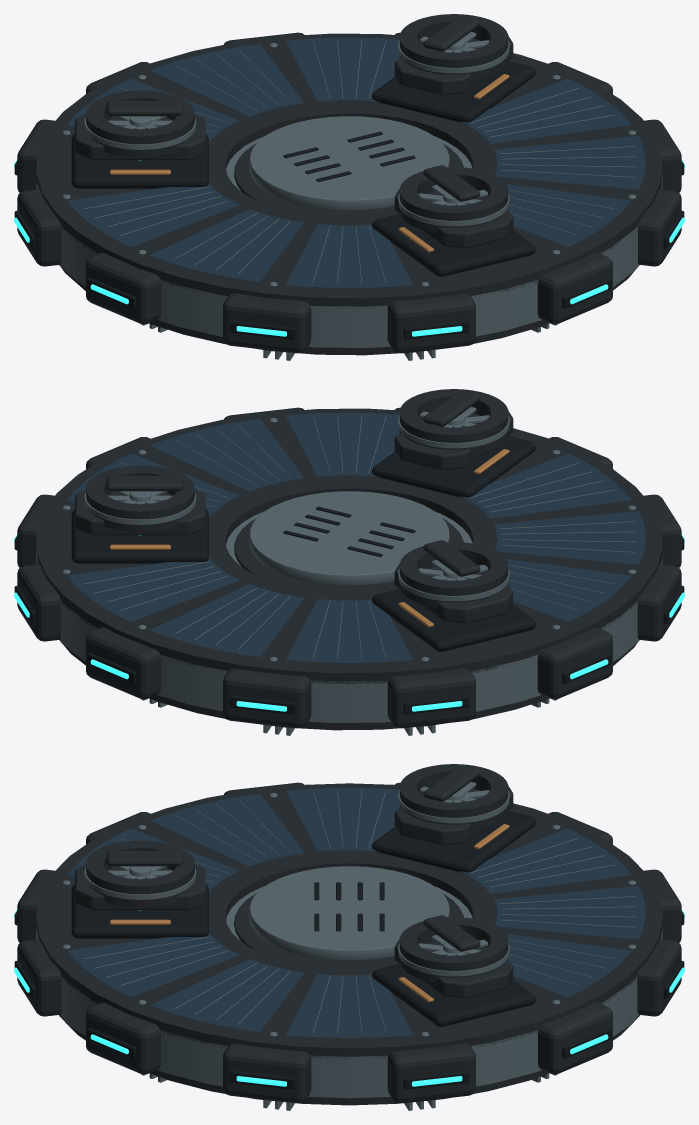
The model's file is solar_service_station.glb.
3 views of the same model, one above another, from view 1: azimuth 30°, elevation 25°; view 2: azimuth 150°, elevation 25°; view 3: azimuth 270°, elevation 25° (orthographic).
Parts seen in each view (by area): view 1: StationUpperSkin, StationServiceCap, SolarWafer.001, SolarWafer.002, StationStructuralDeck, SolarWafer, RelayBerth.001, RelayDuct.001, StationPerimeterCassette, SolarWafer.003, StationPerimeterCassette.001, SolarWafer.004 (+18 smaller); view 2: StationUpperSkin, StationServiceCap, SolarWafer.001, SolarWafer.003, SolarWafer, StationStructuralDeck, RelayBerth.001, RelayDuct.001, StationPerimeterCassette.005, SolarWafer.002, StationPerimeterCassette.004, SolarWafer.004 (+17 smaller); view 3: StationUpperSkin, StationServiceCap, SolarWafer.001, SolarWafer.002, StationStructuralDeck, SolarWafer.003, RelayBerth.001, RelayDuct.001, SolarWafer, SolarWafer.004, StationPerimeterCassette.002, RelayBerth (+16 smaller).
Part boxes in pixels (x1,y1,x2,y2): StationUpperSkin: (36, 33, 662, 308); StationServiceCap: (249, 116, 449, 210); SolarWafer.001: (150, 136, 645, 281); SolarWafer.002: (67, 78, 631, 246); StationStructuralDeck: (36, 136, 662, 347); SolarWafer: (286, 184, 631, 287); RelayBerth.001: (71, 61, 535, 188); RelayDuct.001: (86, 14, 508, 157); StationPerimeterCassette: (387, 252, 612, 353); SolarWafer.003: (67, 37, 399, 142); StationPerimeterCassette.001: (223, 189, 681, 353); SolarWafer.004: (150, 43, 304, 116); StationUpperSkin: (36, 408, 662, 683); StationServiceCap: (249, 491, 449, 585); SolarWafer.001: (150, 418, 645, 564); SolarWafer.003: (67, 558, 412, 662); SolarWafer: (286, 412, 631, 518); StationStructuralDeck: (36, 511, 662, 722); RelayBerth.001: (71, 509, 535, 651); RelayDuct.001: (86, 465, 508, 607); StationPerimeterCassette.005: (86, 627, 311, 728); SolarWafer.002: (67, 453, 631, 621); StationPerimeterCassette.004: (17, 564, 475, 728); SolarWafer.004: (150, 584, 304, 656); StationUpperSkin: (36, 783, 662, 1058); StationServiceCap: (249, 866, 449, 960); SolarWafer.001: (150, 793, 304, 1031); SolarWafer.002: (286, 787, 412, 1037); StationStructuralDeck: (36, 886, 662, 1098); SolarWafer.003: (460, 828, 631, 996); RelayBerth.001: (372, 811, 535, 1026); RelayDuct.001: (399, 764, 508, 982); SolarWafer: (67, 828, 239, 996); SolarWafer.004: (494, 886, 645, 939); StationPerimeterCassette.002: (223, 782, 311, 1103); RelayBerth: (71, 884, 208, 938).
Size of the model in its own units: 3.08 by 0.71 by 3.08.
